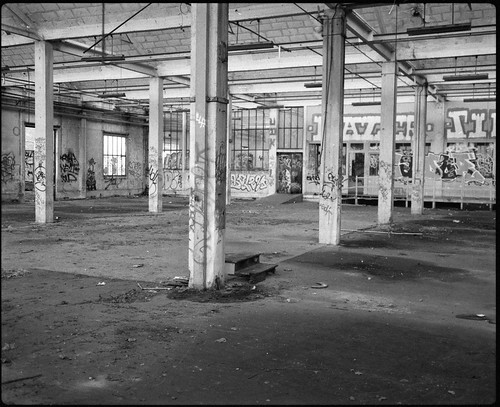collumn: (174, 1, 237, 294), (316, 6, 346, 251), (29, 35, 57, 224), (376, 47, 404, 236), (408, 72, 429, 216), (142, 70, 163, 214)
graffiti: (185, 144, 226, 269), (419, 144, 494, 187), (54, 144, 83, 187), (231, 168, 271, 197), (146, 165, 162, 205)
